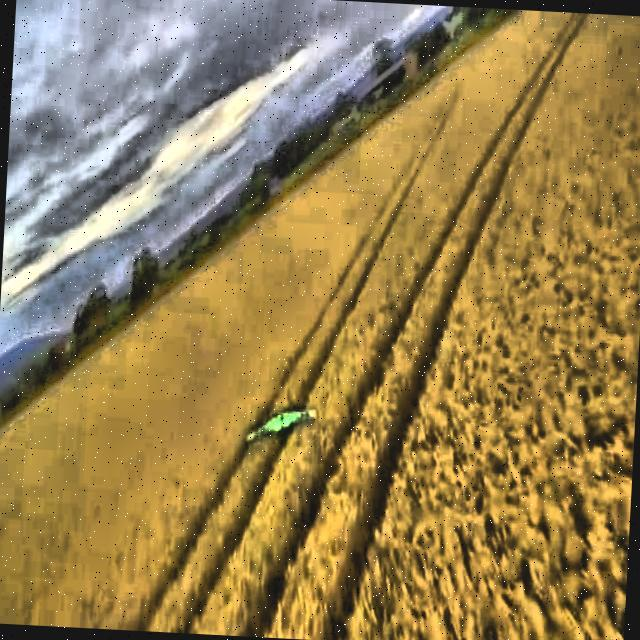iha: (258, 403, 306, 430)
